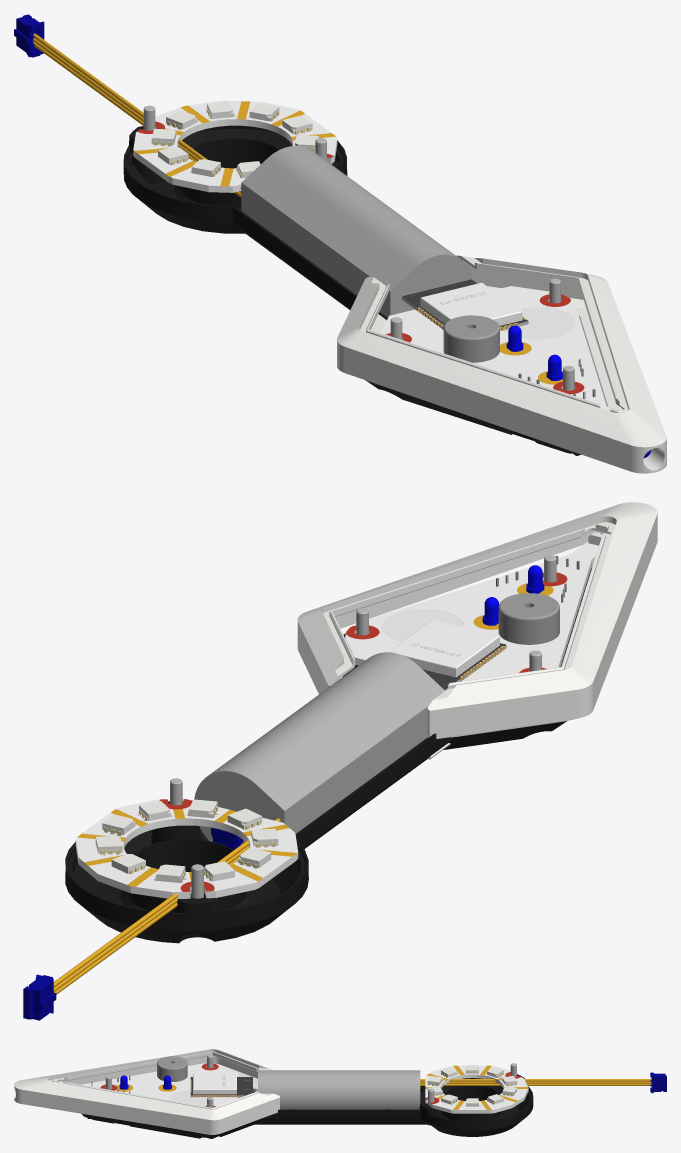
Rendered from XSA_kunai_open.glb.
The picture shows the model from 3 angles, top to bottom: view 1: azimuth 30°, elevation 25°; view 2: azimuth 150°, elevation 25°; view 3: azimuth 270°, elevation 25°; orthographic projection. The views are drawn at different scales.
Parts seen in each view (by area): view 1: Body1, Body1 1, Body1 23, Body1 7, Body4 3, Body1 28, Body1 8, Body2, Body1 27; view 2: Body1, Body1 1, Body1 23, Body1 7, Body4 3, Body1 28, Body1 8, Body2, Body1 27; view 3: Body1, Body1 23, Body1 1, Body1 7, Body4 3, Body1 28, Body2, Body1 8, Body1 27.
Part boxes in pixels (x1,y1,x2,y2): Body1: (337, 255, 666, 473); Body1 1: (241, 145, 472, 317); Body1 23: (123, 125, 576, 453); Body1 7: (381, 286, 610, 410); Body4 3: (133, 100, 337, 192); Body1 28: (402, 279, 528, 330); Body1 8: (443, 315, 499, 362); Body2: (32, 33, 241, 197); Body1 27: (14, 14, 44, 57); Body1: (297, 502, 657, 738); Body1 1: (194, 652, 444, 844); Body1 23: (65, 568, 591, 943); Body1 7: (345, 533, 609, 681); Body4 3: (75, 799, 298, 898); Body1 28: (389, 620, 506, 690); Body1 8: (498, 593, 559, 644); Body2: (53, 818, 280, 994); Body1 27: (23, 974, 56, 1020); Body1: (14, 1049, 279, 1134); Body1 23: (81, 1074, 533, 1138); Body1 1: (258, 1070, 420, 1114); Body1 7: (81, 1063, 238, 1107); Body4 3: (425, 1065, 528, 1113); Body1 28: (190, 1073, 252, 1097); Body2: (420, 1079, 651, 1085); Body1 8: (157, 1056, 187, 1081); Body1 27: (650, 1072, 666, 1093).
Size of the model in its own units: 0.0685 by 0.0205 by 0.2677.
